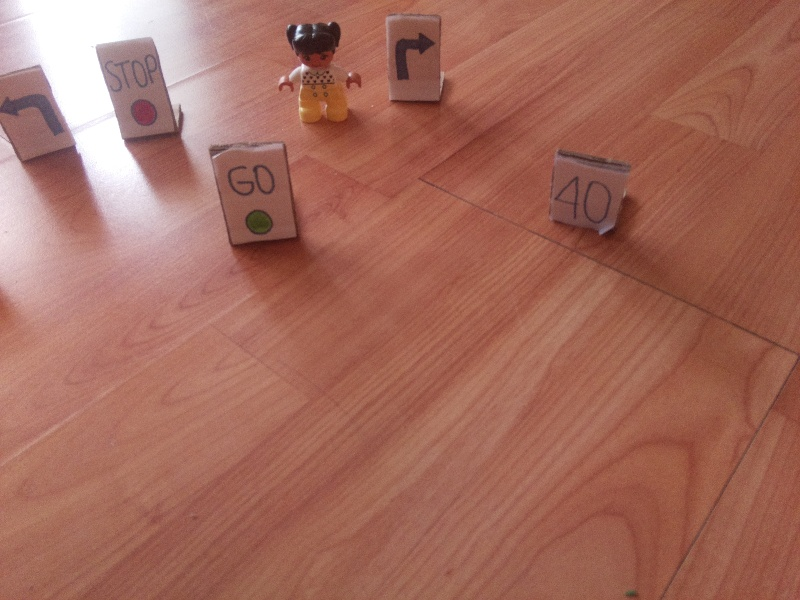40: (552, 169, 617, 228)
go: (225, 162, 282, 233)
person: (276, 14, 358, 122)
stop: (101, 52, 170, 127)
turn left: (1, 86, 68, 140)
turn right: (392, 24, 435, 92)
